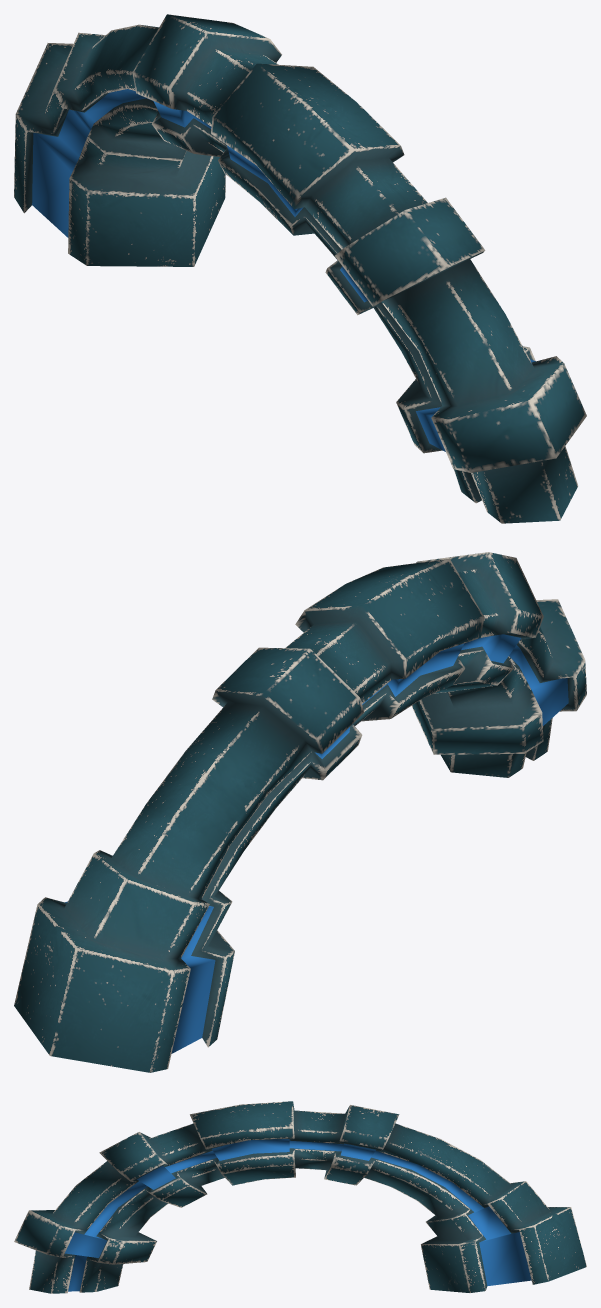
The model's file is spaceship_cold.obj.
3 renders of one model, top to bottom at view 1: azimuth 30°, elevation 25°; view 2: azimuth 150°, elevation 25°; view 3: azimuth 270°, elevation 25°, orthographic. The views are drawn at different scales.
Parts seen in each view (by area): view 1: warm/cold1_Torus.001; view 2: warm/cold1_Torus.001; view 3: warm/cold1_Torus.001.
Boxes of the visible parts, left/top/right/bottom form: warm/cold1_Torus.001: left=14, top=14, right=586, bottom=523; warm/cold1_Torus.001: left=14, top=552, right=586, bottom=1072; warm/cold1_Torus.001: left=14, top=1101, right=586, bottom=1293.
Size of the model in its own units: 1.91 by 3.31 by 9.71.
Materials: 1 (1 with a texture image).
